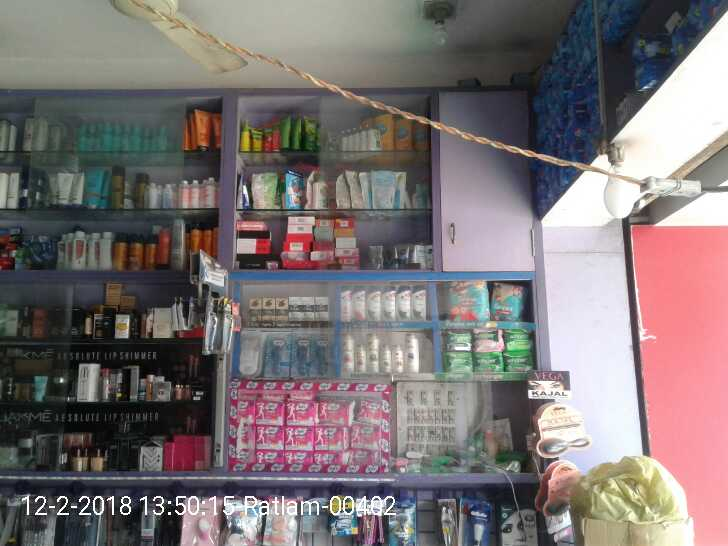gillete: (460, 499, 492, 546), (390, 496, 418, 546), (327, 496, 358, 533), (222, 298, 238, 351), (171, 299, 199, 329), (207, 291, 218, 354)
venus: (264, 333, 292, 379), (239, 332, 263, 379), (292, 333, 311, 378), (311, 336, 330, 379)
